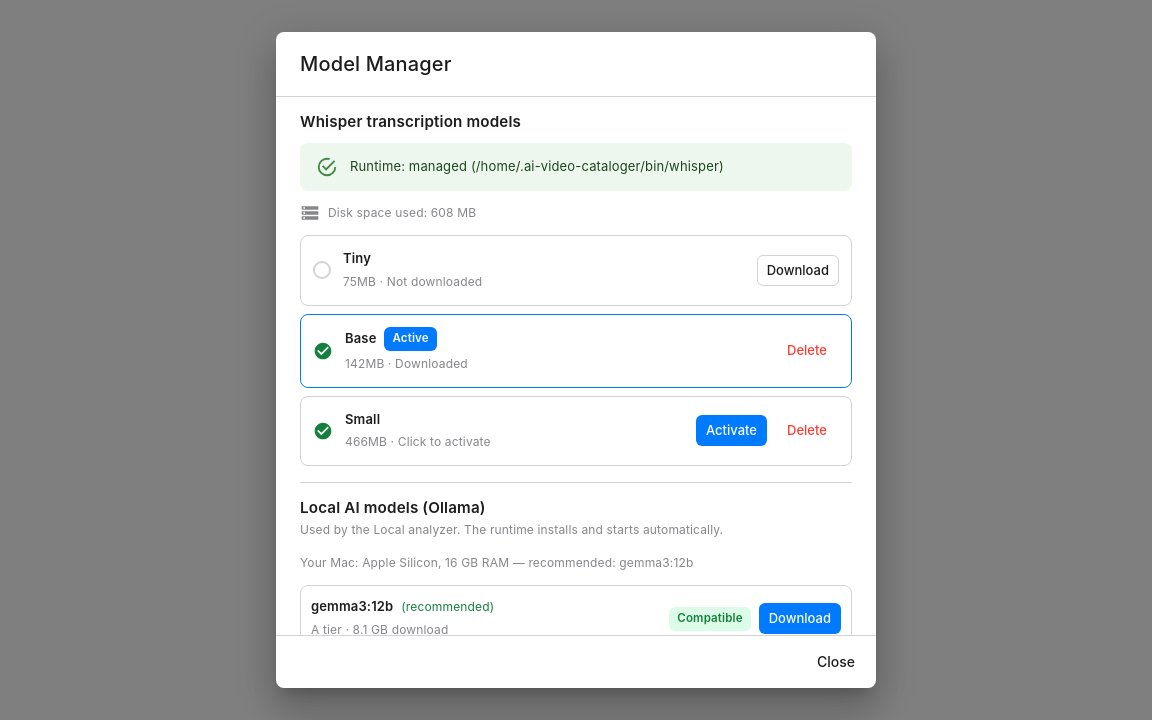
it: model manager › surfaces a failed whisper model download as an inline alert, not just the terminal
Click the button with test id "whisper-download-button" at point(798, 270), box left=757, top=255, right=839, bottom=286
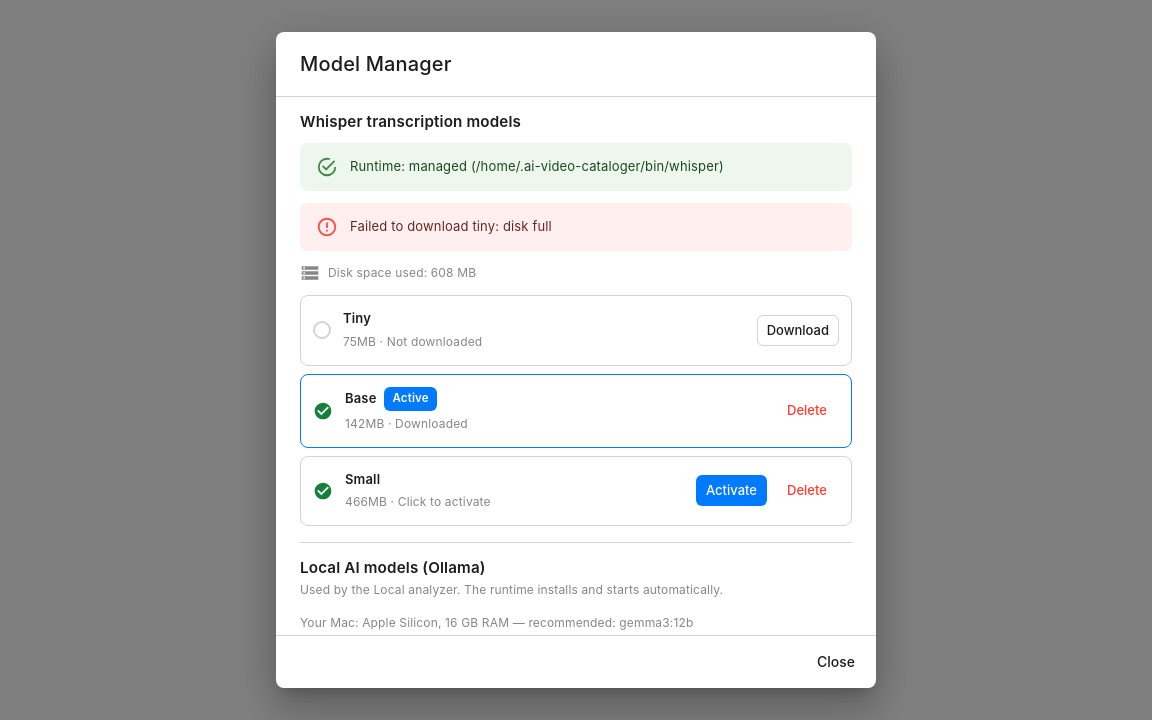
expect the message with test id "whisper-action-error" shows "disk full": met, box left=350, top=218, right=552, bottom=234
